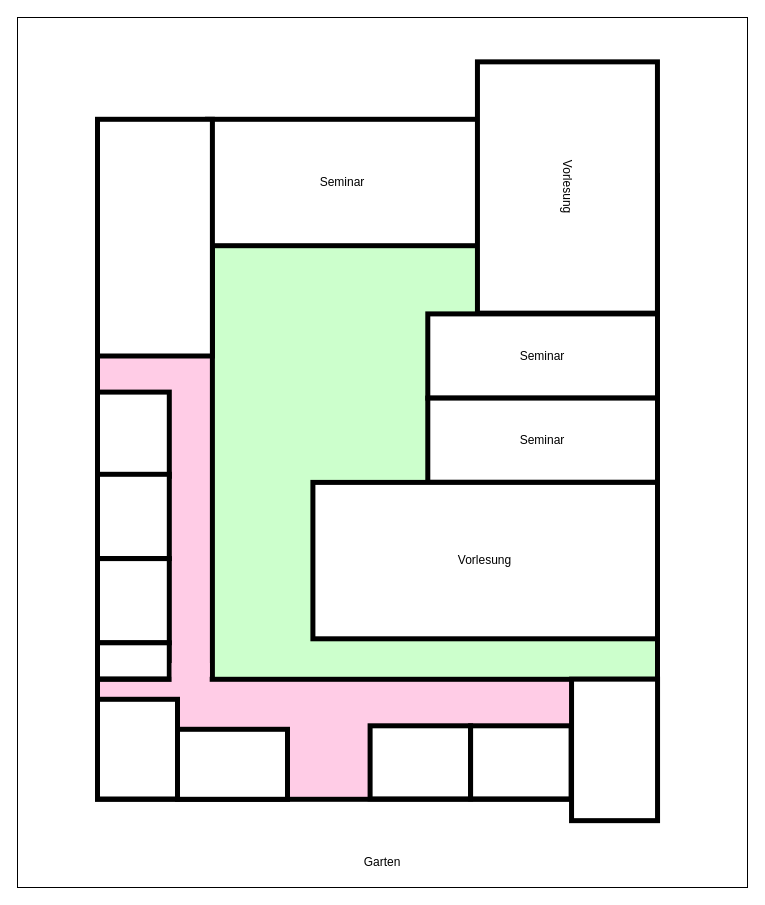
The diagram is 765 pixels wide and 905 high, and some of its shapes have lost their labels. The centre of each missing label's shape, as x and y in pixels:
Küche: the point at 154,237
Sekreteriat: the point at 614,749
